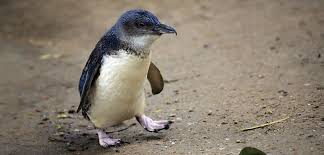Walking: (58, 5, 182, 150)
